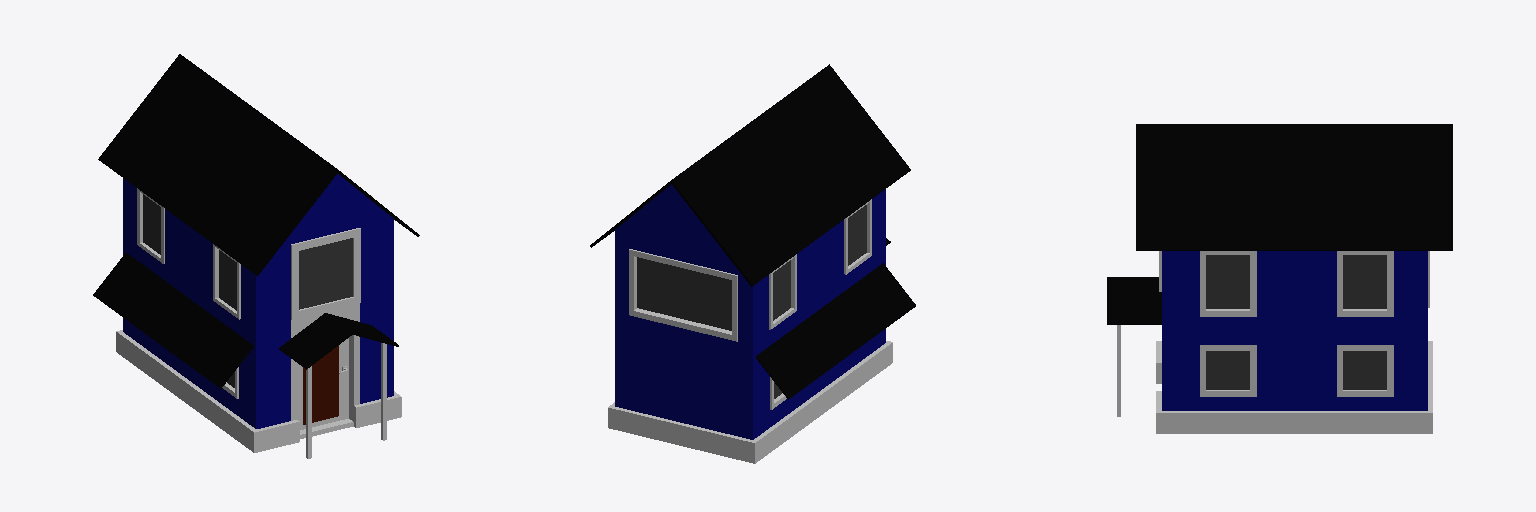
File: house2_2.obj
3 views of the same model, side by side, from view 1: azimuth 30°, elevation 25°; view 2: azimuth 150°, elevation 25°; view 3: azimuth 270°, elevation 25° (orthographic).
Parts seen in each view (by area): view 1: House2.1; view 2: House2.1; view 3: House2.1.
Part boxes in pixels (left/top/right/bottom): House2.1: left=93, top=54, right=419, bottom=458; House2.1: left=590, top=64, right=915, bottom=463; House2.1: left=1107, top=124, right=1452, bottom=433.
Bounding box in the file's own units: 4 × 5.67 × 6.5.